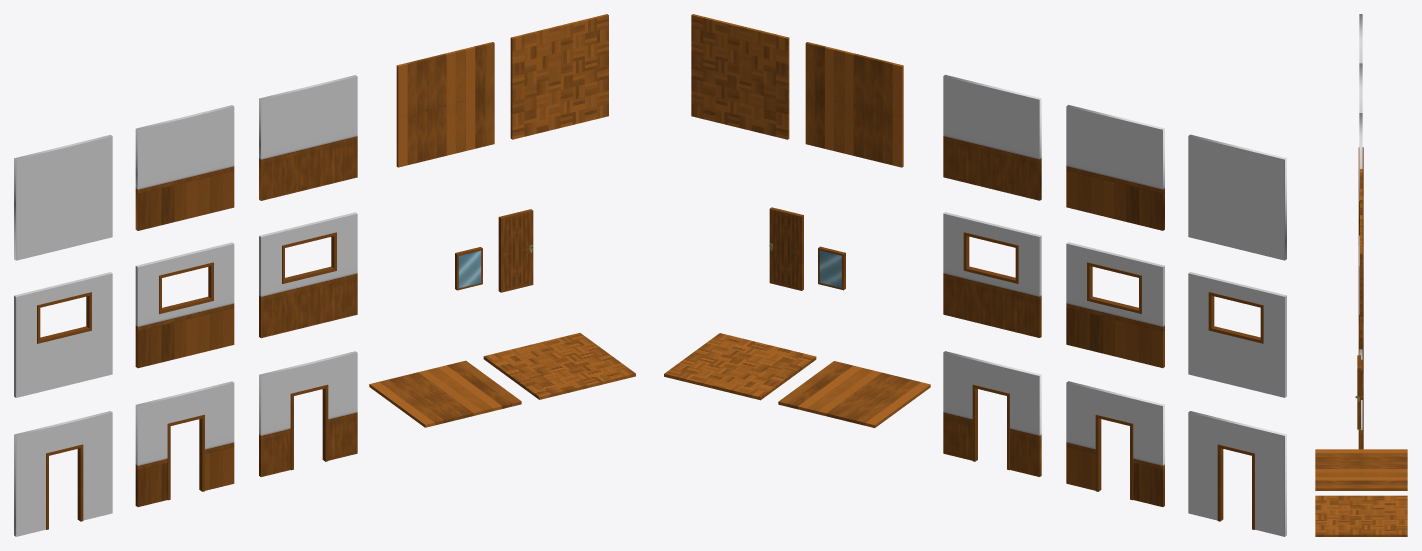
Rendered from walls_window_door.glb.
3 views of the same model, side by side, from view 1: azimuth 30°, elevation 25°; view 2: azimuth 150°, elevation 25°; view 3: azimuth 270°, elevation 25° (orthographic). The views are drawn at different scales.
Parts seen in each view (by area): view 1: wall.002_3, wall.001_1, wall.003_4, floorpattern.002_13, floorpattern.003_14, wallwindow.002_8, wallwindow.003_9, wallwindow.001_7, walldoor.002_5, walldoor.003_6, walldoor.001_2, floorpattern.001_10 (+3 smaller); view 2: wall.001_1, wall.003_4, wall.002_3, floorpattern.003_14, floorpattern.002_13, wallwindow.003_9, wallwindow.001_7, wallwindow.002_8, walldoor.002_5, walldoor.003_6, walldoor.001_2, floorpattern_11 (+3 smaller); view 3: floorpattern.001_10, floorpattern_11, floorpattern.003_14, wallwindow.001_7, door_12, walldoor.001_2, wall.001_1, wall.002_3, wall.003_4, wallwindow.003_9, wallwindow.002_8, walldoor.002_5 (+1 smaller).
Boxes of the visible parts, <box> form: wall.002_3: <box>135,105,234,230</box>; wall.001_1: <box>259,75,357,200</box>; wall.003_4: <box>14,135,112,260</box>; floorpattern.002_13: <box>396,42,494,167</box>; floorpattern.003_14: <box>510,14,608,139</box>; wallwindow.002_8: <box>135,242,234,368</box>; wallwindow.003_9: <box>14,272,112,397</box>; wallwindow.001_7: <box>259,212,357,338</box>; walldoor.002_5: <box>135,381,234,506</box>; walldoor.003_6: <box>14,411,112,536</box>; walldoor.001_2: <box>259,351,357,476</box>; floorpattern.001_10: <box>369,360,521,427</box>; wall.001_1: <box>943,74,1041,200</box>; wall.003_4: <box>1188,134,1286,260</box>; wall.002_3: <box>1066,105,1164,230</box>; floorpattern.003_14: <box>691,14,789,139</box>; floorpattern.002_13: <box>805,42,903,167</box>; wallwindow.003_9: <box>1188,272,1286,397</box>; wallwindow.001_7: <box>943,212,1041,337</box>; wallwindow.002_8: <box>1066,242,1164,367</box>; walldoor.002_5: <box>1066,381,1164,506</box>; walldoor.003_6: <box>1188,411,1286,536</box>; walldoor.001_2: <box>943,351,1041,476</box>; floorpattern_11: <box>664,333,816,400</box>; floorpattern.001_10: <box>1315,449,1407,490</box>; floorpattern_11: <box>1315,495,1407,536</box>; floorpattern.003_14: <box>1360,215,1362,337</box>; wallwindow.001_7: <box>1358,235,1363,349</box>; door_12: <box>1355,355,1362,429</box>; walldoor.001_2: <box>1358,349,1363,449</box>; wall.001_1: <box>1359,113,1362,235</box>; wall.002_3: <box>1359,63,1362,112</box>; wall.003_4: <box>1359,14,1362,63</box>; wallwindow.003_9: <box>1358,147,1363,196</box>; wallwindow.002_8: <box>1358,196,1363,246</box>; walldoor.002_5: <box>1358,324,1363,374</box>.
Bounding box in the file's own units: 12.29 × 7.47 × 2.
7 materials, 7 textured.
